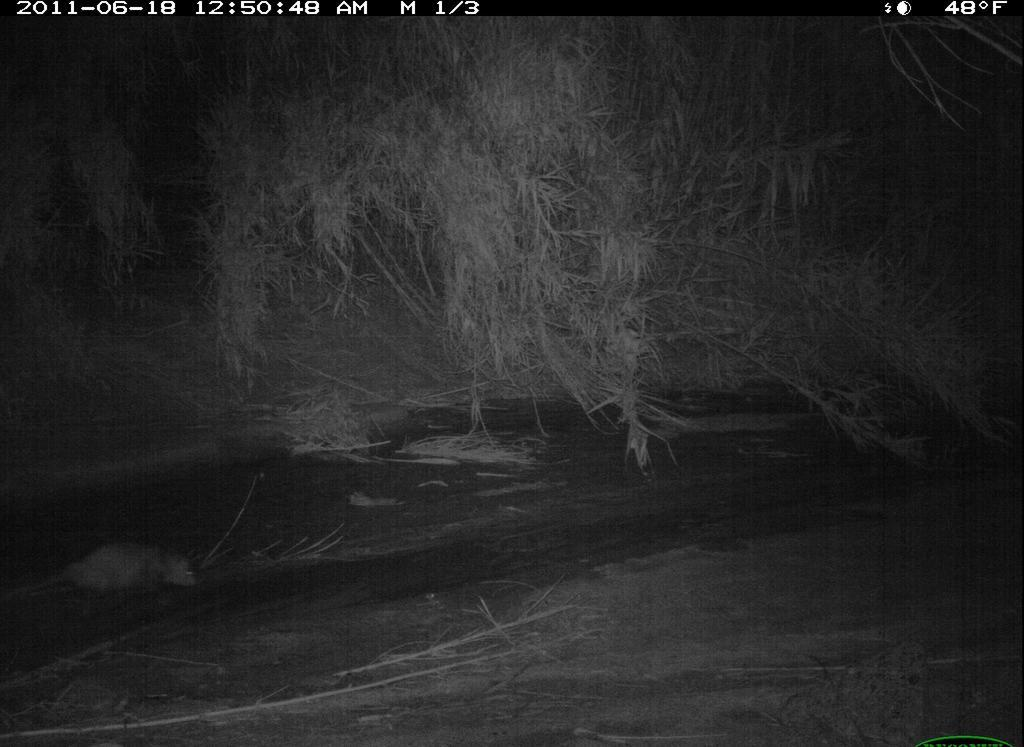opossum: (58, 518, 209, 610)
